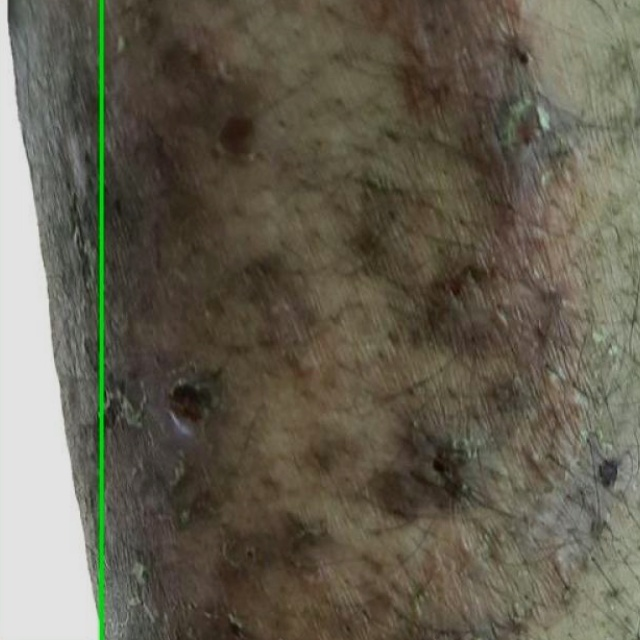Tinea Corporis: (0, 0, 101, 639)
